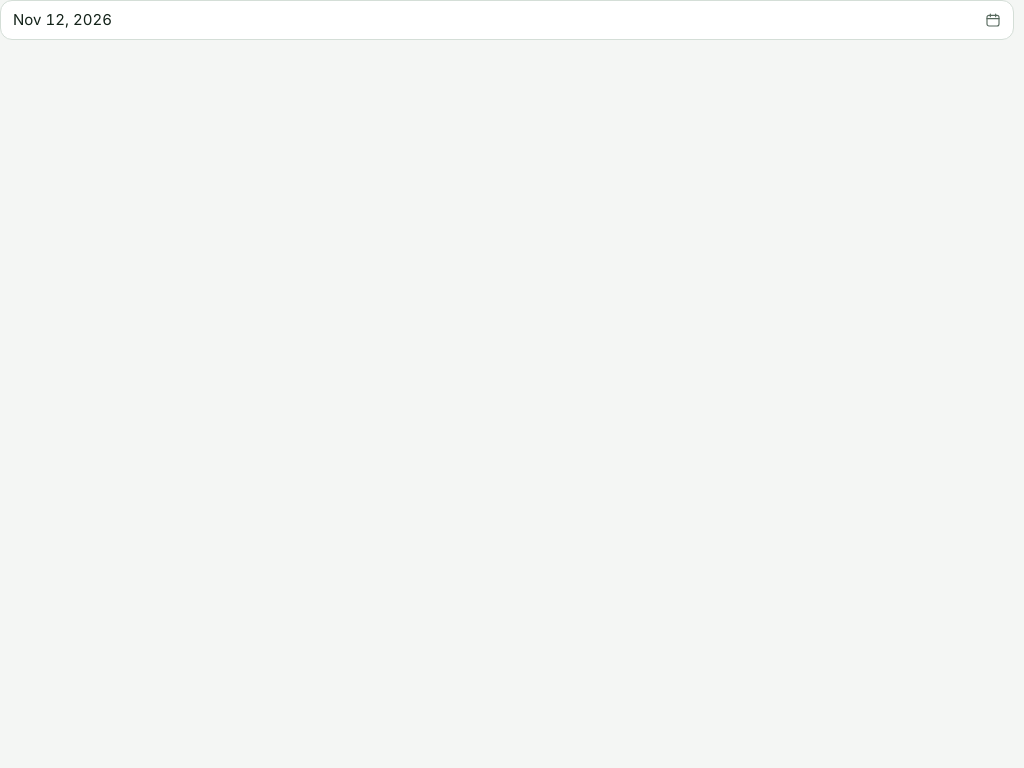
it: NuqtaDatePicker › closes on Escape
Click the dropdown named "Pick date" at [62, 20], box [0,0,1014,40]
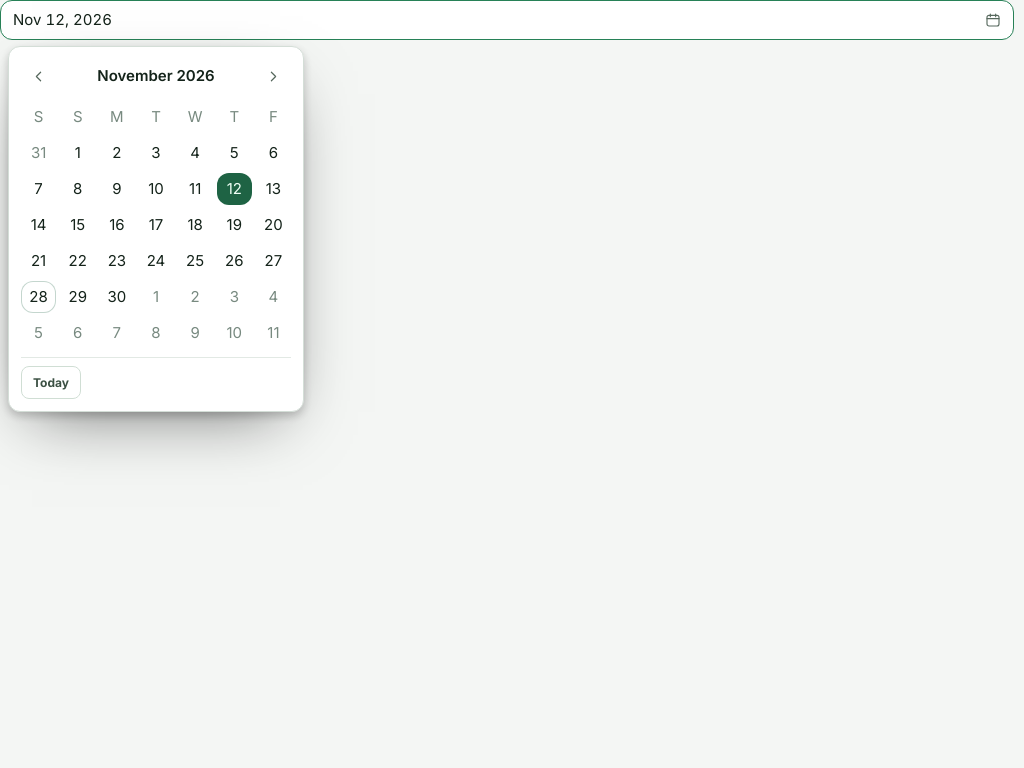
Press Escape
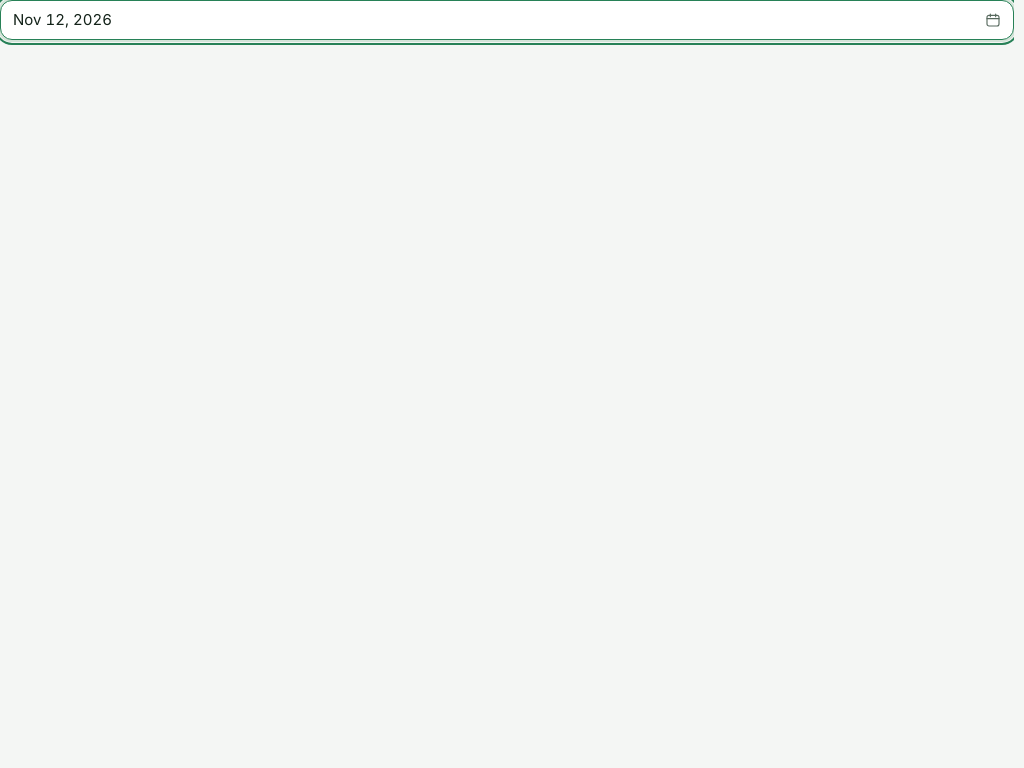
Expected: the dialog is gone
